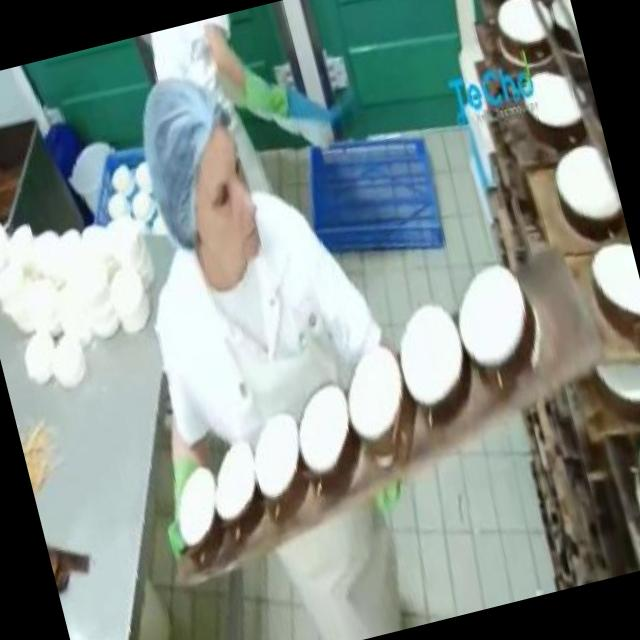hairnet: (125, 68, 241, 241)
